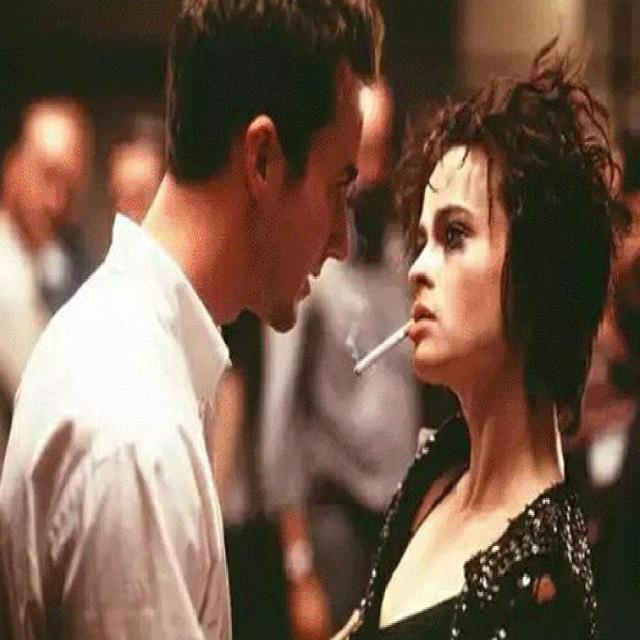smoking: (353, 100, 591, 376)
